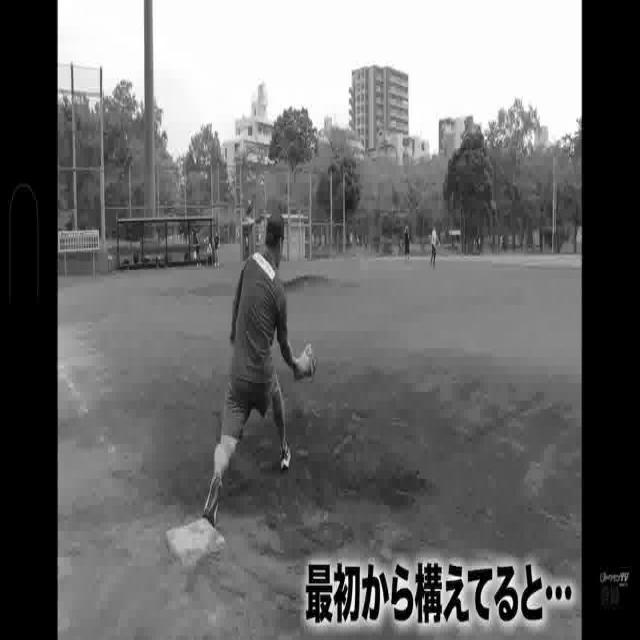base: (167, 518, 227, 567)
baseball_glove: (294, 343, 316, 381)
shoe: (203, 472, 220, 529), (277, 444, 293, 477)
